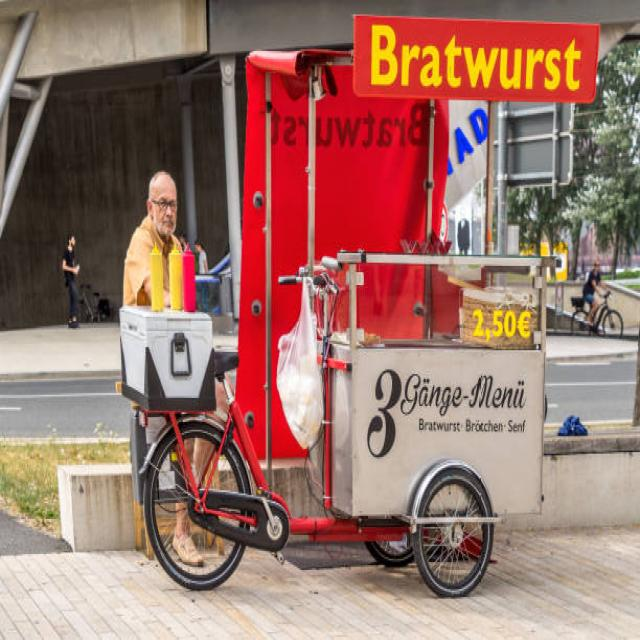Emperan: (107, 2, 605, 612)
